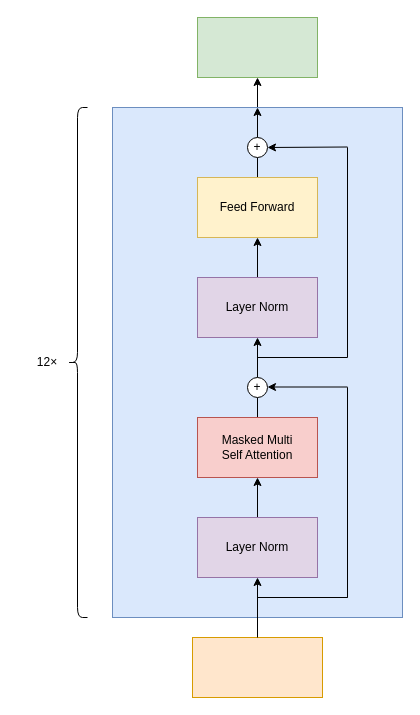
The diagram is 420 pixels wide and 715 high, and some of its shapes have lost their labels. The centre of each missing label's shape, as x and y in pixels:
Text & Position Embed: (257,667)
Text Prediction: (257,47)
